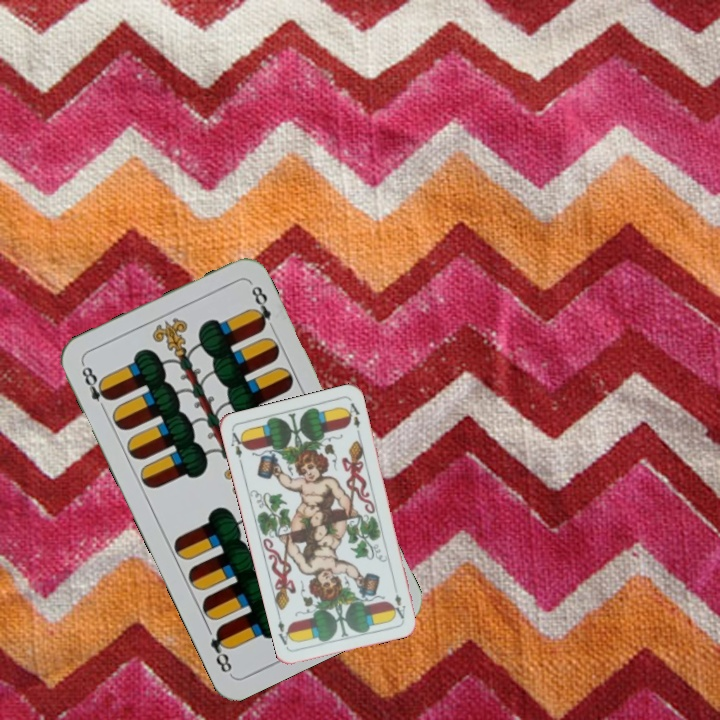E8: (77, 359, 114, 415)
EA: (226, 428, 248, 468), (389, 581, 408, 621)
